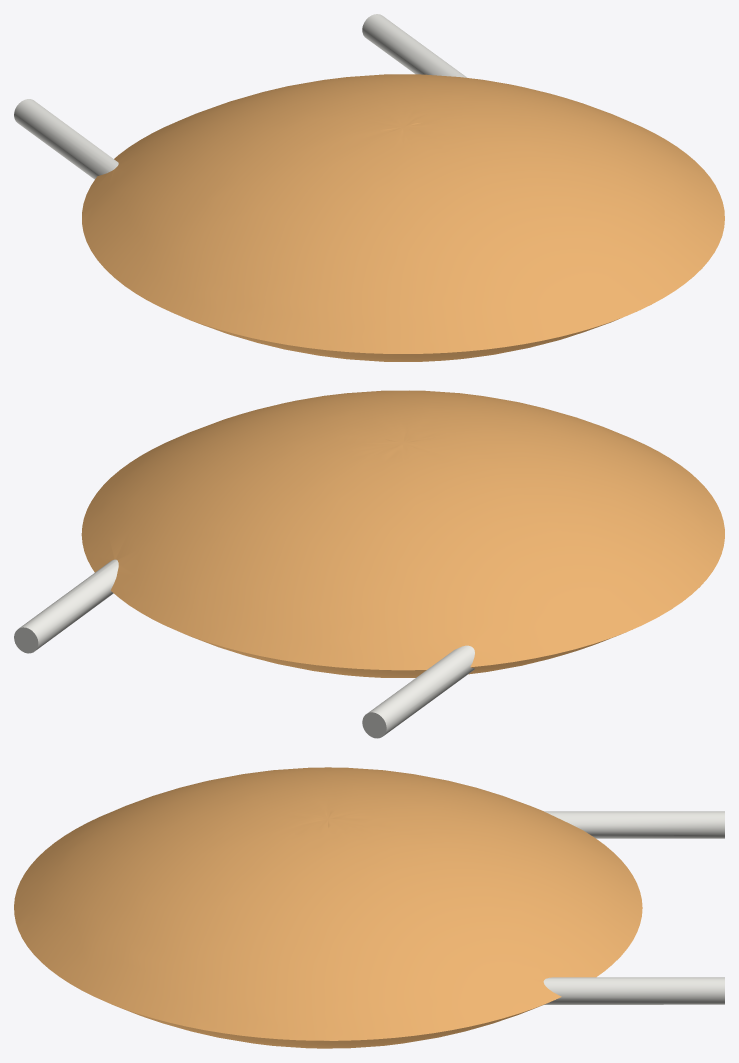
Rendered from C_Disc_D16.0mm_W5.0mm_P10.00mm.glb.
3 views of the same model, one above another, from view 1: azimuth 30°, elevation 25°; view 2: azimuth 150°, elevation 25°; view 3: azimuth 270°, elevation 25° (orthographic). The views are drawn at different scales.
Visible parts, largest first — view 1: Shape_IndexedFaceSet.003, Shape_IndexedFaceSet.001, Shape_IndexedFaceSet.004, Shape_IndexedFaceSet.002; view 2: Shape_IndexedFaceSet.003, Shape_IndexedFaceSet.001, Shape_IndexedFaceSet.004, Shape_IndexedFaceSet.002; view 3: Shape_IndexedFaceSet.003, Shape_IndexedFaceSet.004, Shape_IndexedFaceSet.001, Shape_IndexedFaceSet.002.
Part boxes in pixels (x1=…): Shape_IndexedFaceSet.003: x1=82, y1=74, x2=724, y2=353; Shape_IndexedFaceSet.001: x1=14, y1=99, x2=118, y2=179; Shape_IndexedFaceSet.004: x1=362, y1=14, x2=467, y2=77; Shape_IndexedFaceSet.002: x1=178, y1=315, x2=619, y2=361; Shape_IndexedFaceSet.003: x1=81, y1=390, x2=724, y2=670; Shape_IndexedFaceSet.001: x1=368, y1=645, x2=474, y2=735; Shape_IndexedFaceSet.004: x1=19, y1=559, x2=118, y2=650; Shape_IndexedFaceSet.002: x1=183, y1=633, x2=620, y2=677; Shape_IndexedFaceSet.003: x1=14, y1=767, x2=642, y2=1040; Shape_IndexedFaceSet.004: x1=543, y1=977, x2=724, y2=1004; Shape_IndexedFaceSet.001: x1=544, y1=811, x2=724, y2=838; Shape_IndexedFaceSet.002: x1=111, y1=999, x2=556, y2=1048.
Size of the model in its own units: 6.3 by 1.97 by 7.12.
